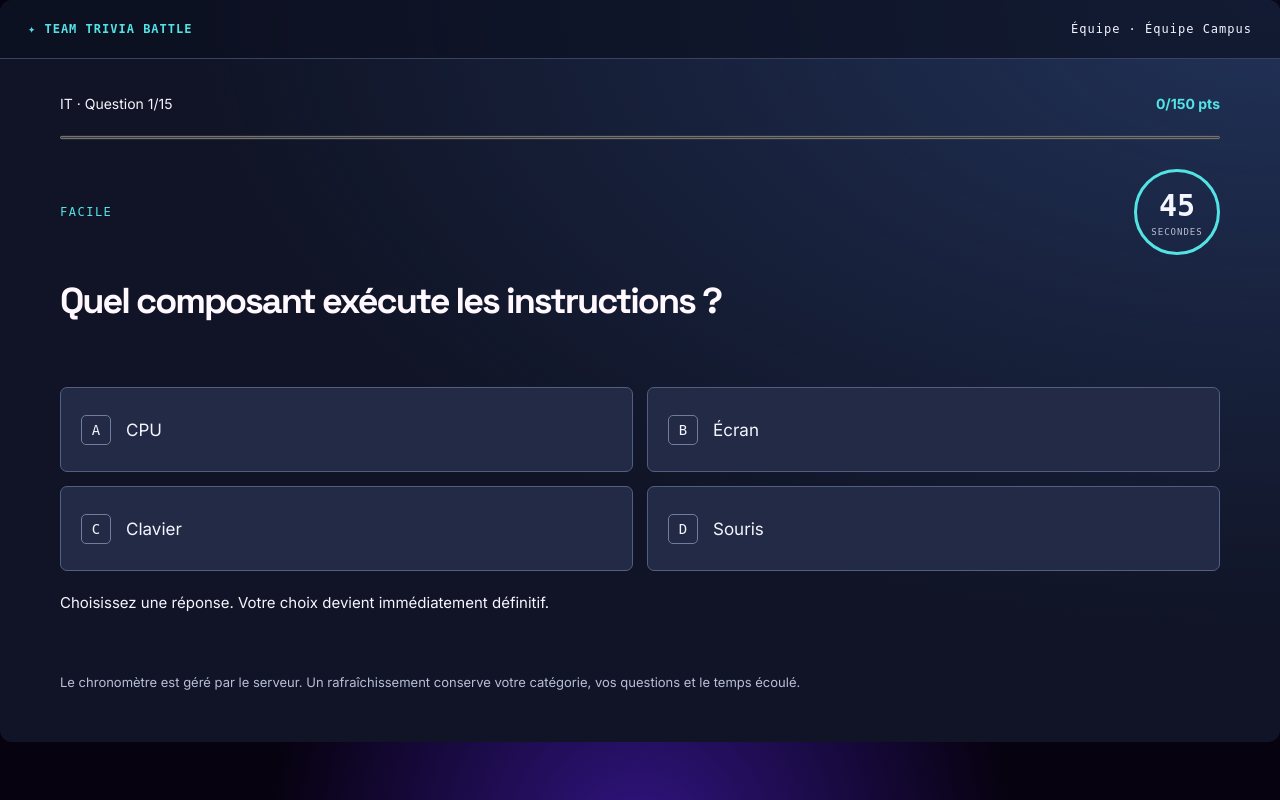
Scenario: Team Trivia Battle › locks the chosen answer immediately, shows feedback, and advances on the server response
The image size is (1280, 800).
Click the button "A CPU": click(144, 430) [60, 387, 633, 472]
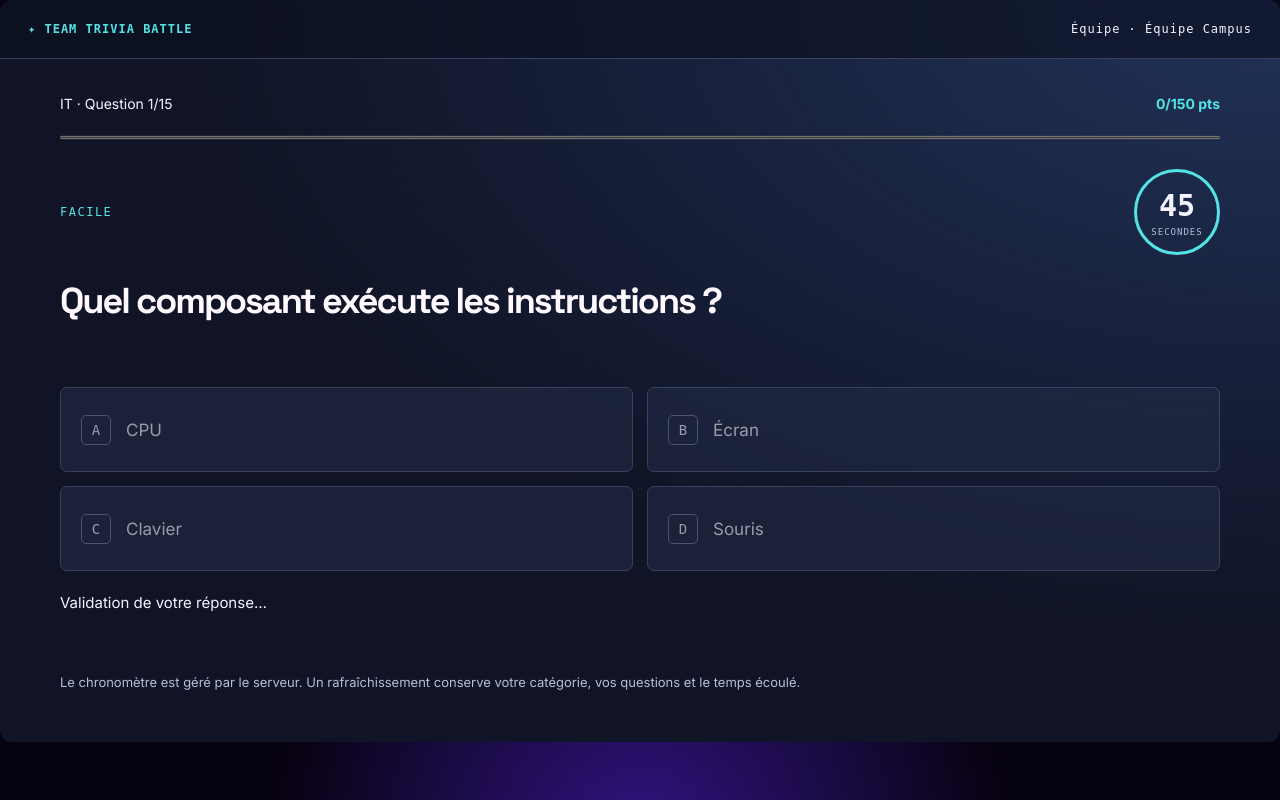
Click the button "A CPU": click(144, 430) [60, 387, 633, 472]
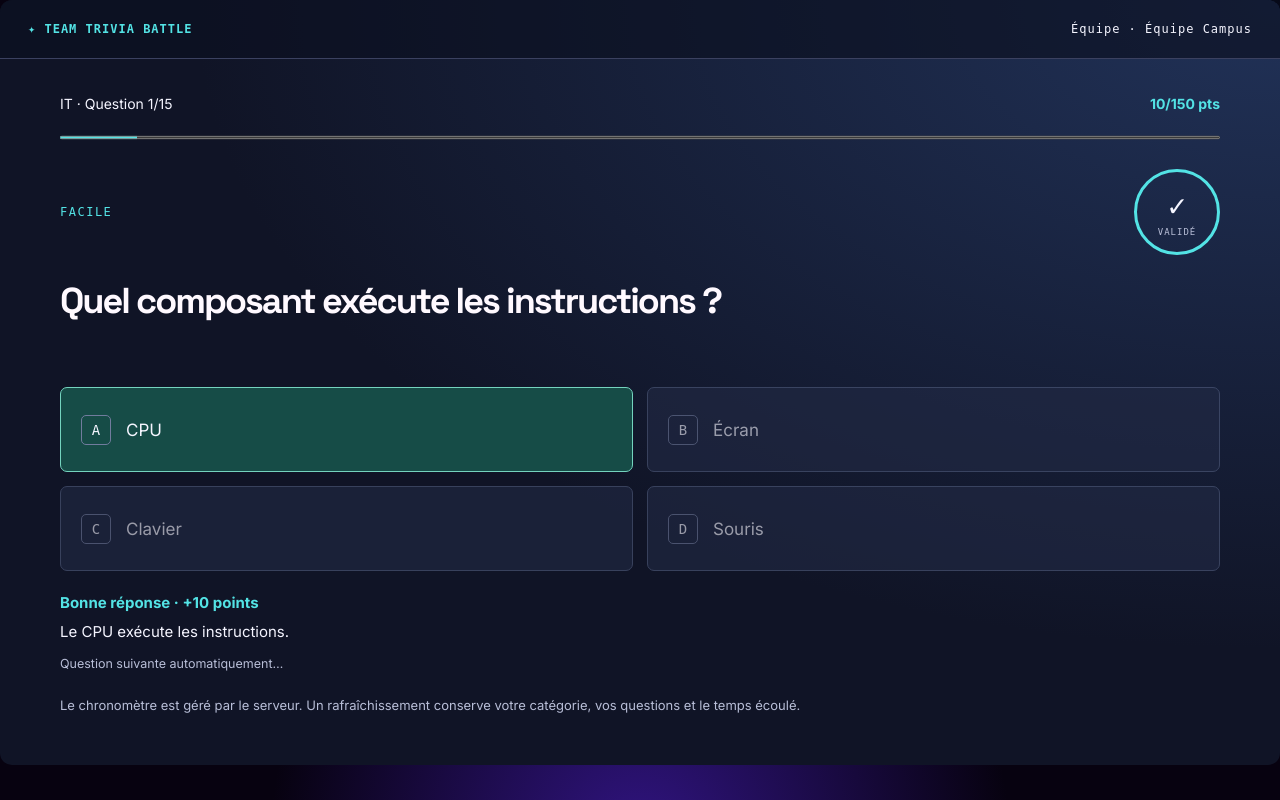
Check: the button "B Écran" is disabled, box [647, 387, 1220, 472]
Check: the text "Bonne réponse · +10 points" is shown, box [60, 593, 259, 612]
Check: the text "Le CPU exécute les instructions." is shown, box [60, 622, 289, 641]
